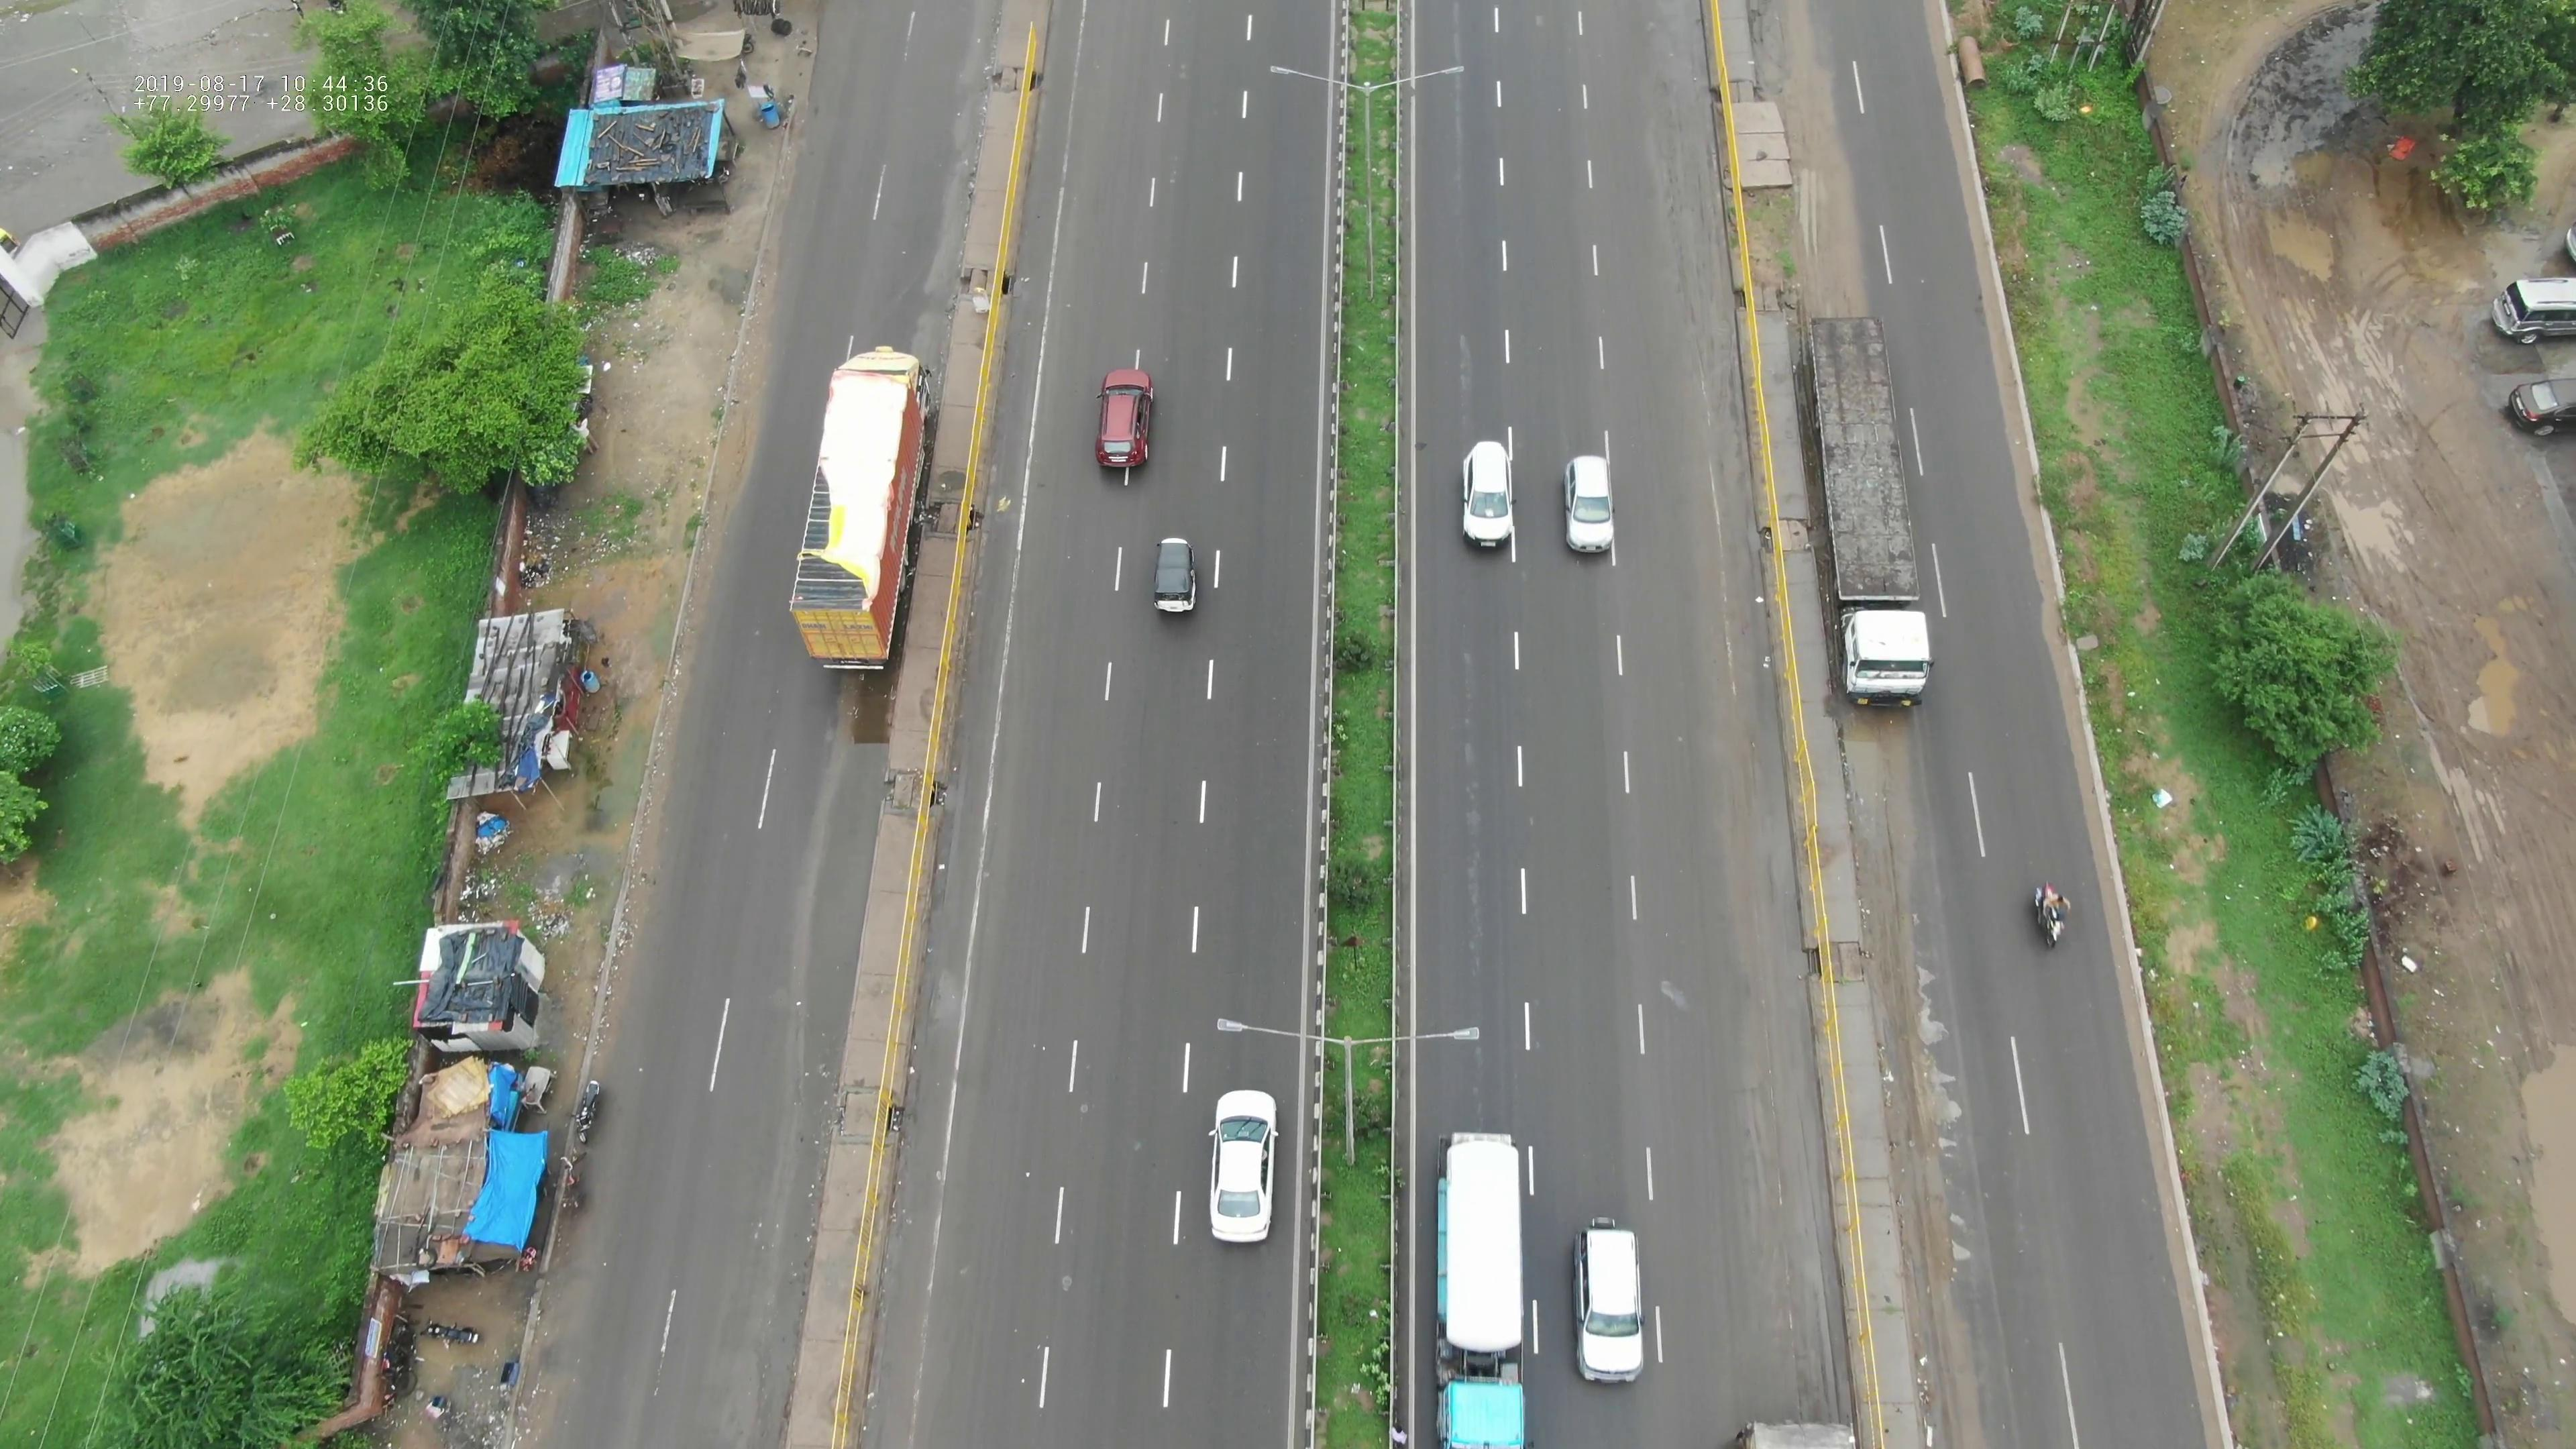Muddy_road: (610, 281, 763, 485), (1780, 74, 1865, 311)
